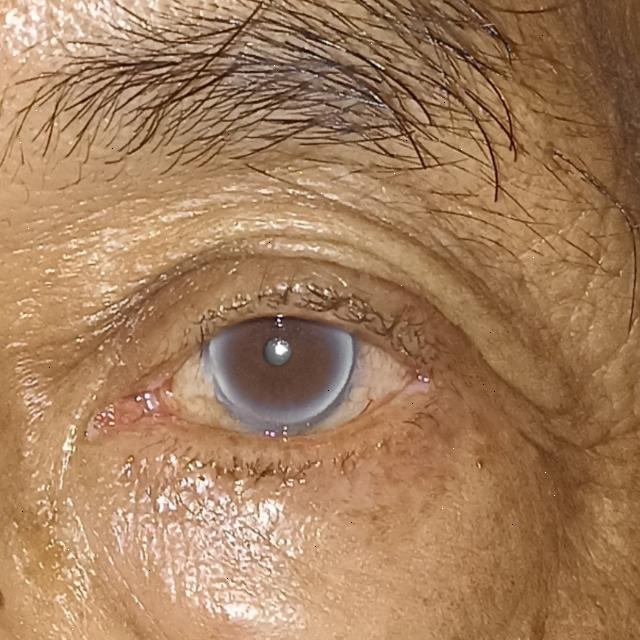Cataract: (207, 272, 357, 428)
